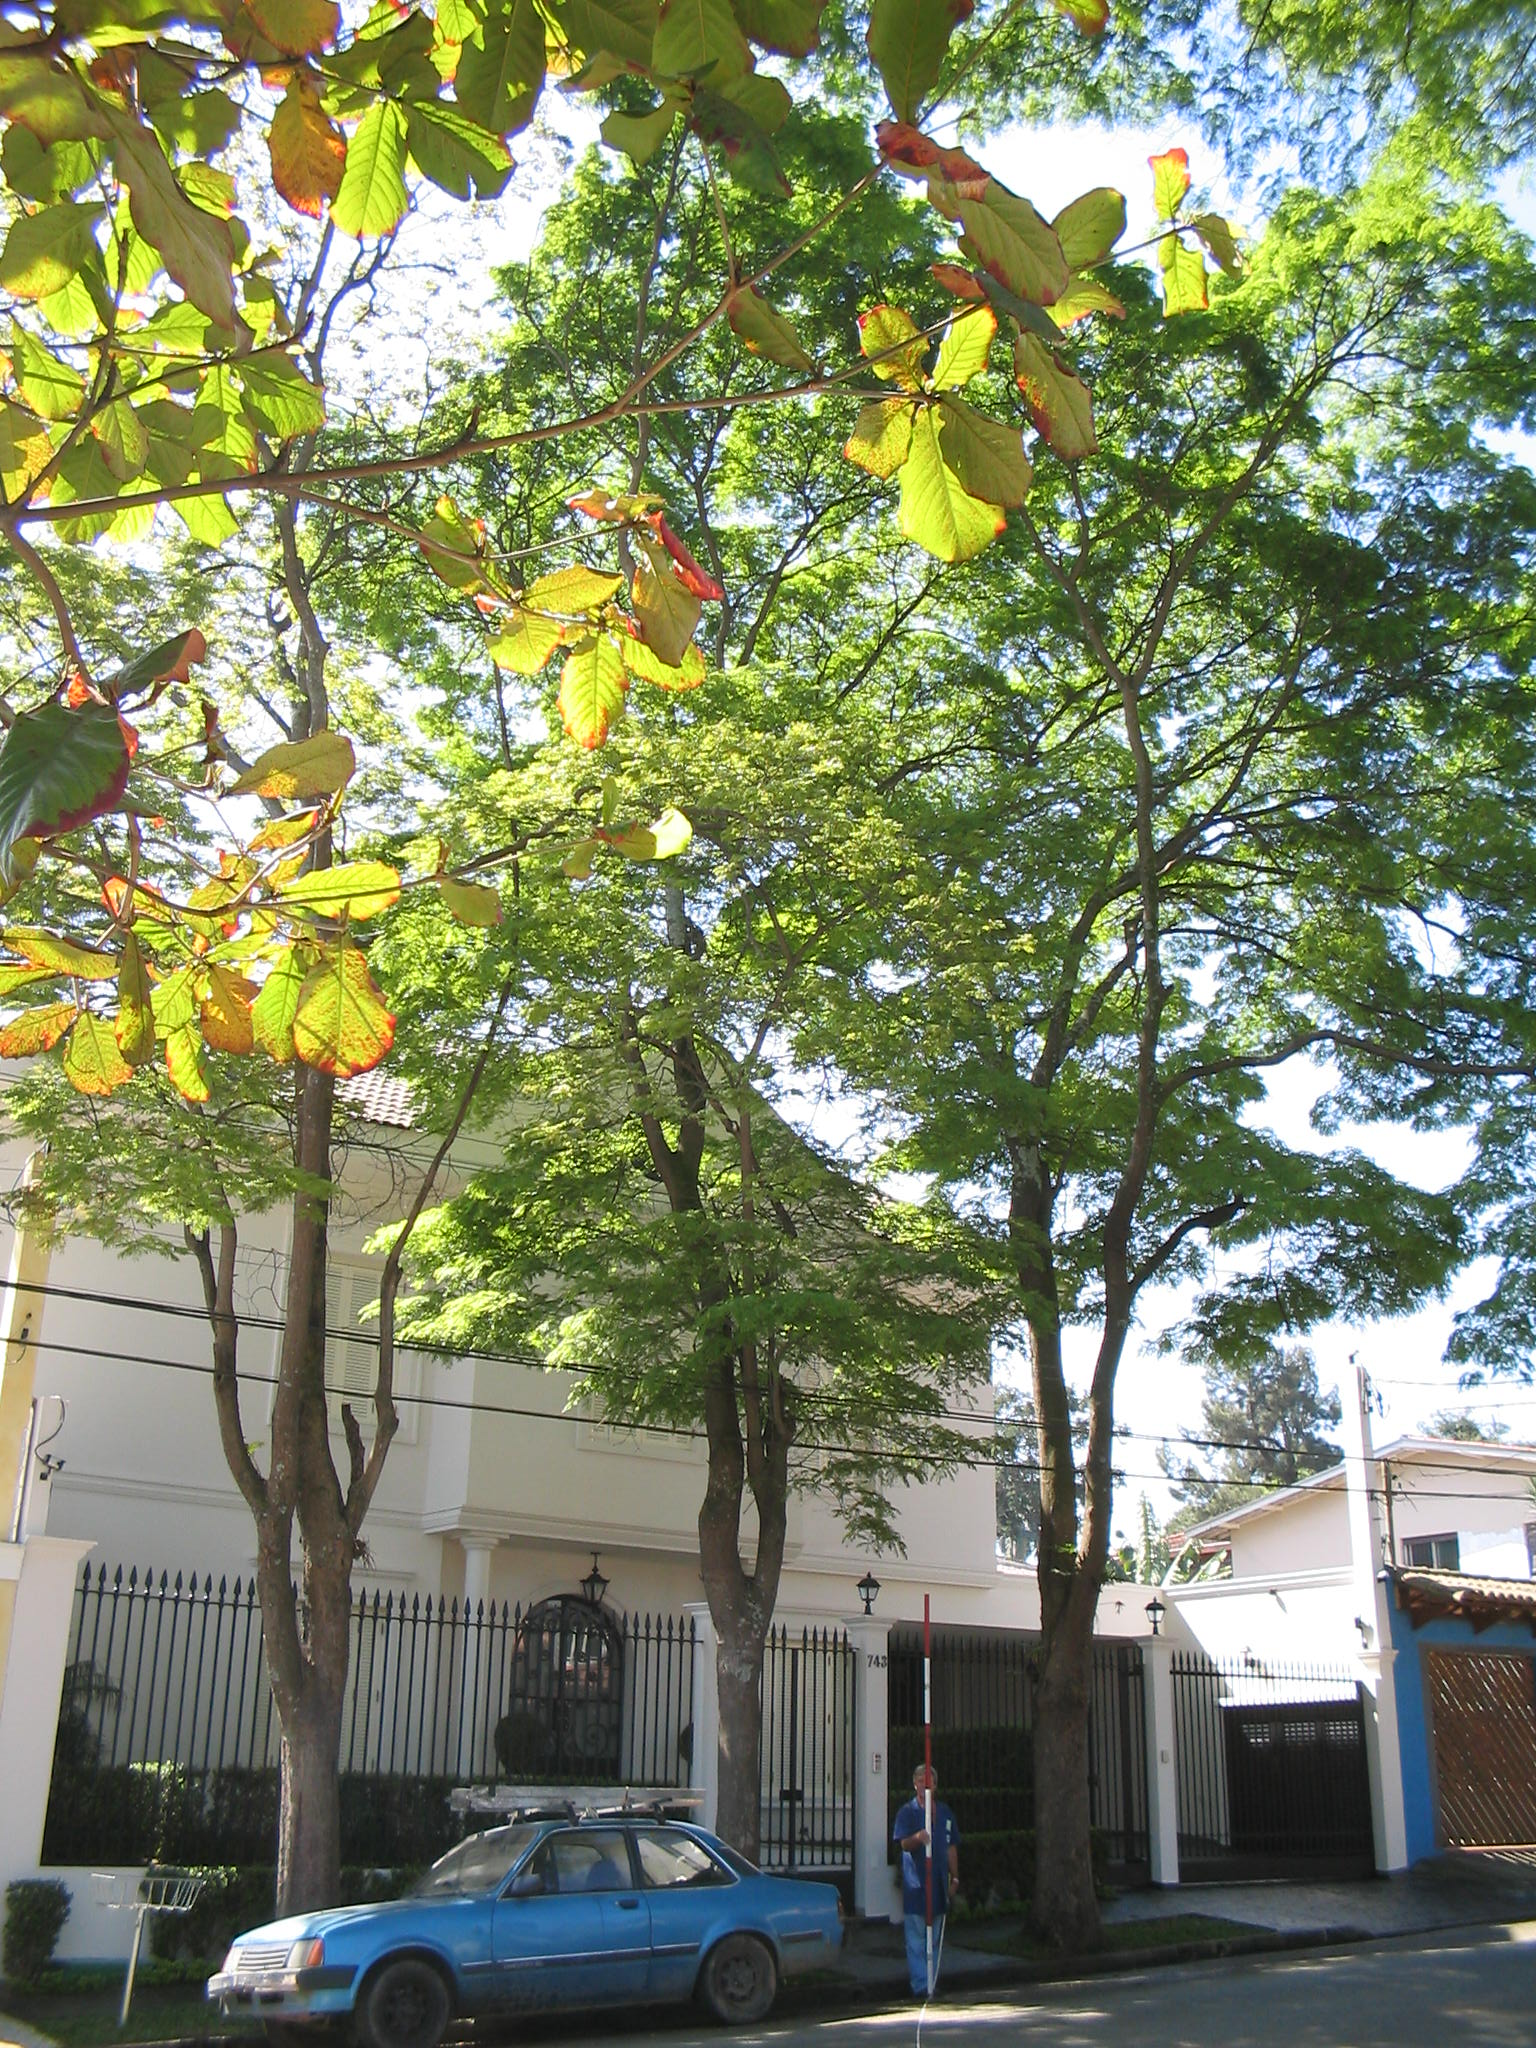crown: (810, 158, 1525, 1487)
stem: (995, 1640, 1146, 1954)
stick: (907, 1587, 954, 2001)
tree: (799, 155, 1531, 1958)
